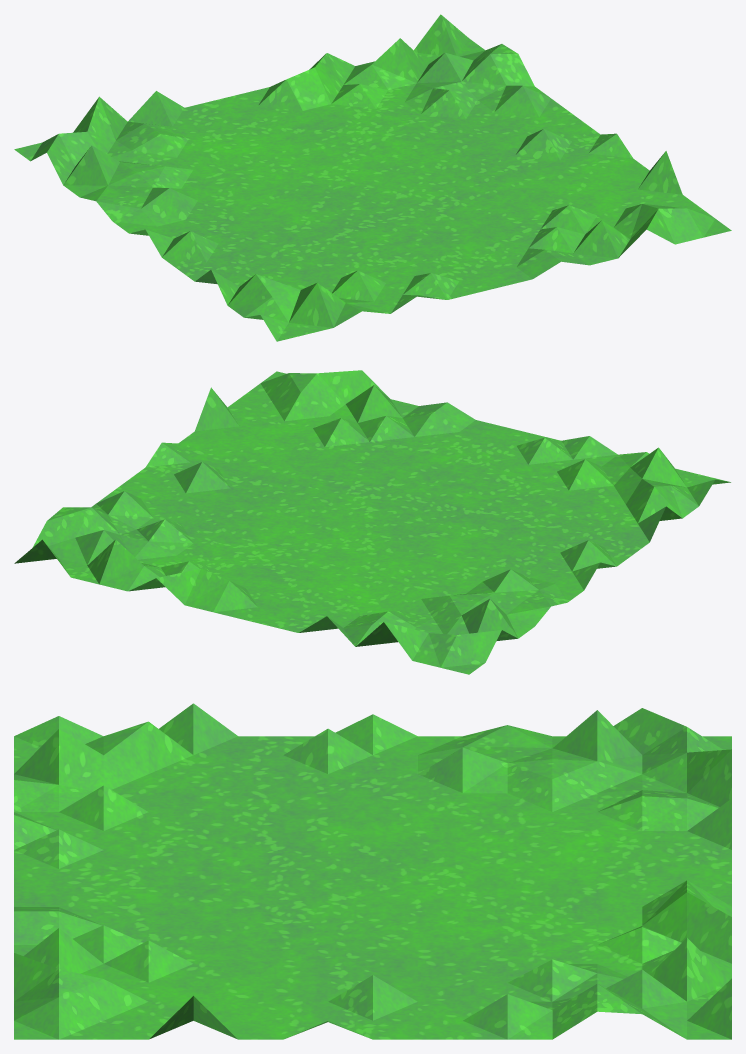
The model's file is Ground.obj.
3 renders of one model, top to bottom at view 1: azimuth 30°, elevation 25°; view 2: azimuth 150°, elevation 25°; view 3: azimuth 270°, elevation 25°, orthographic. The views are drawn at different scales.
Parts seen in each view (by area): view 1: 平面; view 2: 平面; view 3: 平面.
Part boxes in pixels (box(x1,y1,x2,y2)): 平面: box(14, 14, 731, 341); 平面: box(14, 370, 730, 674); 平面: box(14, 703, 731, 1039).
Size of the model in its own units: 20 by 1.39 by 20.
Materials: 1 (1 with a texture image).
